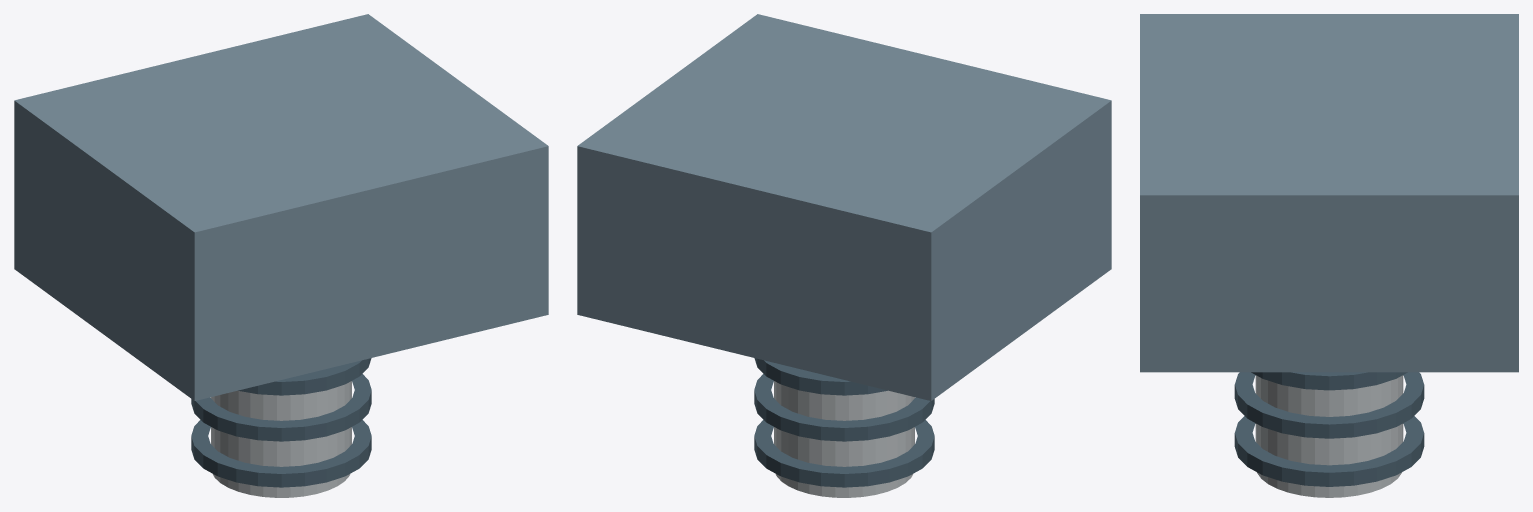
Rendered from 09_L76_CathodeVerticalLiftAssembly.glb.
3 renders of one model, left to right at view 1: azimuth 30°, elevation 25°; view 2: azimuth 150°, elevation 25°; view 3: azimuth 270°, elevation 25°, orthographic. The views are drawn at different scales.
Visible parts, largest first — view 1: CathodeVerticalLiftAssembly_Node_0000, CathodeVerticalLiftAssembly_Node_0001, CathodeVerticalLiftAssembly_Node_0002, CathodeVerticalLiftAssembly_Node_0003, CathodeVerticalLiftAssembly_Node_0004; view 2: CathodeVerticalLiftAssembly_Node_0000, CathodeVerticalLiftAssembly_Node_0001, CathodeVerticalLiftAssembly_Node_0002, CathodeVerticalLiftAssembly_Node_0003, CathodeVerticalLiftAssembly_Node_0004; view 3: CathodeVerticalLiftAssembly_Node_0000, CathodeVerticalLiftAssembly_Node_0001, CathodeVerticalLiftAssembly_Node_0002, CathodeVerticalLiftAssembly_Node_0003, CathodeVerticalLiftAssembly_Node_0004.
Boxes of the visible parts, x1,y1,x2,y2 form: CathodeVerticalLiftAssembly_Node_0000: [14, 14, 548, 400]; CathodeVerticalLiftAssembly_Node_0001: [211, 381, 351, 497]; CathodeVerticalLiftAssembly_Node_0002: [191, 420, 371, 487]; CathodeVerticalLiftAssembly_Node_0003: [191, 374, 371, 441]; CathodeVerticalLiftAssembly_Node_0004: [238, 358, 371, 395]; CathodeVerticalLiftAssembly_Node_0000: [577, 14, 1111, 400]; CathodeVerticalLiftAssembly_Node_0001: [774, 381, 914, 497]; CathodeVerticalLiftAssembly_Node_0002: [754, 420, 934, 487]; CathodeVerticalLiftAssembly_Node_0003: [754, 374, 934, 441]; CathodeVerticalLiftAssembly_Node_0004: [754, 358, 887, 395]; CathodeVerticalLiftAssembly_Node_0000: [1140, 14, 1518, 372]; CathodeVerticalLiftAssembly_Node_0001: [1255, 375, 1403, 497]; CathodeVerticalLiftAssembly_Node_0002: [1234, 416, 1424, 486]; CathodeVerticalLiftAssembly_Node_0003: [1234, 372, 1424, 438]; CathodeVerticalLiftAssembly_Node_0004: [1251, 372, 1407, 390].
Bounding box in the file's own units: 1.45 × 1.35 × 1.28.
